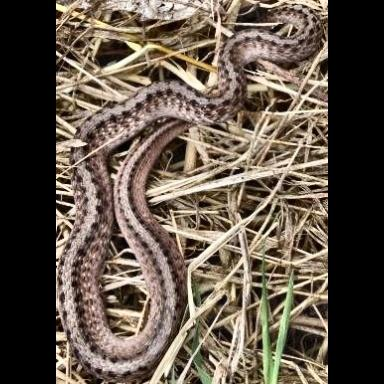snake: (61, 7, 325, 384)
